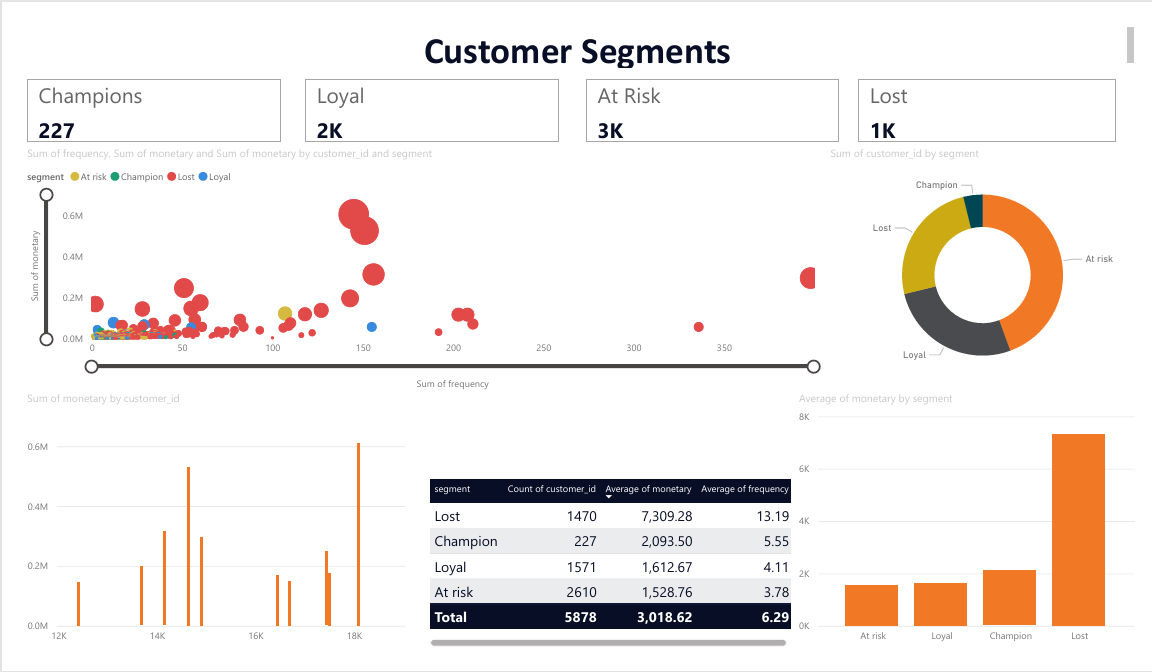

What the dashboard file says about the page in this screenshot:
{"tool":"powerbi","page":{"name":"Customer Segments","canvas":[1280,720],"ordinal":2},"visuals":[{"type":"donutChart","fields":{"Category":["query 5 data-1778632604514.segment"],"Y":["Sum(query 5 data-1778632604514.customer_id)"]},"box":[920.8,140.6,359.5,280],"z":0},{"type":"clusteredColumnChart","fields":{"Category":["query 5 data-1778632604514.segment"],"Y":["Avg(query 5 data-1778632604514.monetary)"]},"box":[885.3,420.7,395,298.4],"z":1000},{"type":"scatterChart","fields":{"X":["Sum(query 5 data-1778632604514.frequency)"],"Y":["Sum(query 5 data-1778632604514.monetary)"],"Series":["query 5 data-1778632604514.segment"],"Size":["Sum(query 5 data-1778632604514.monetary)"],"Category":["query 5 data-1778632604514.customer_id"]},"box":[0,140.6,920.8,280],"z":2000},{"type":"tableEx","fields":{"Values":["query 5 data-1778632604514.segment","CountNonNull(query 5 data-1778632604514.customer_id)","Avg(query 5 data-1778632604514.monetary)","Avg(query 5 data-1778632604514.frequency)"]},"box":[461,518.5,424.3,201.8],"z":3000},{"type":"textbox","box":[0,0,1280.3,56.3],"z":4000},{"type":"clusteredColumnChart","fields":{"Category":["query 5 data-1778632604514.customer_id"],"Y":["Sum(query 5 data-1778632604514.monetary)"]},"box":[0,420.7,451.2,298.4],"z":5000},{"type":"cardVisual","fields":{"Data":["query 5 data-1778632604514.Champions"]},"box":[0,59.9,299.6,80.7],"z":6000},{"type":"cardVisual","fields":{"Data":["query 5 data-1778632604514.Loyal"]},"box":[319.2,59.9,299.6,80.7],"z":7000},{"type":"cardVisual","fields":{"Data":["query 5 data-1778632604514.At Risk"]},"box":[640.8,59.9,299.6,80.7],"z":8000},{"type":"cardVisual","fields":{"Data":["query 5 data-1778632604514.Lost"]},"box":[952.6,59.9,305.7,80.7],"z":9000}]}

Visuals, with their boxes on the page's 1280x720 design canvas (x1, y1, x2, y2). These are canvas units, not pixel positions in the 1152x672 screenshot, which may show the page scaled, cropped or inside an application window:
donutChart - query 5 data-1778632604514.segment x Sum(query 5 data-1778632604514.customer_id): [921, 141, 1280, 421]
clusteredColumnChart - query 5 data-1778632604514.segment x Avg(query 5 data-1778632604514.monetary): [885, 421, 1280, 719]
scatterChart - Sum(query 5 data-1778632604514.frequency) x Sum(query 5 data-1778632604514.monetary): [0, 141, 921, 421]
tableEx - query 5 data-1778632604514.segment x CountNonNull(query 5 data-1778632604514.customer_id): [461, 518, 885, 720]
textbox: [0, 0, 1280, 56]
clusteredColumnChart - query 5 data-1778632604514.customer_id x Sum(query 5 data-1778632604514.monetary): [0, 421, 451, 719]
cardVisual - query 5 data-1778632604514.Champions: [0, 60, 300, 141]
cardVisual - query 5 data-1778632604514.Loyal: [319, 60, 619, 141]
cardVisual - query 5 data-1778632604514.At Risk: [641, 60, 940, 141]
cardVisual - query 5 data-1778632604514.Lost: [953, 60, 1258, 141]
